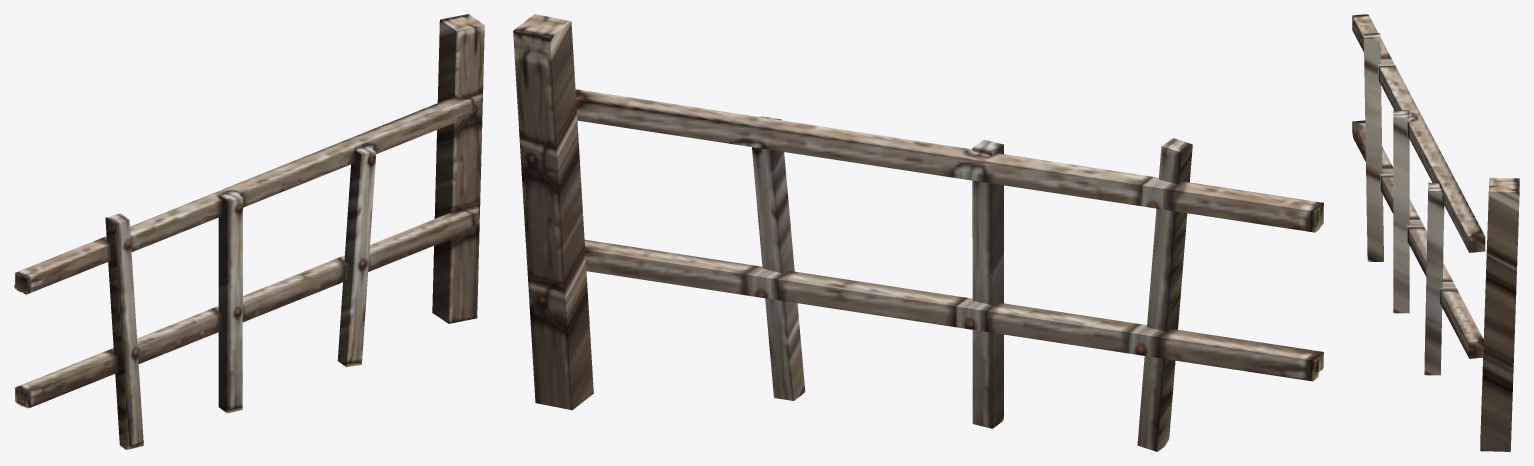
The model's file is fence_17.glb.
3 views of the same model, side by side, from view 1: azimuth 30°, elevation 25°; view 2: azimuth 150°, elevation 25°; view 3: azimuth 270°, elevation 25° (orthographic). The views are drawn at different scales.
Visible parts, largest first — view 1: fence_17_game; view 2: fence_17_game; view 3: fence_17_game.
Part boxes in pixels (x1,y1,x2,y2): fence_17_game: (14,14,484,449); fence_17_game: (513,14,1323,451); fence_17_game: (1352,14,1519,451).
Bounding box in the file's own units: 2.45 × 1.26 × 0.7157.
Materials: 1 (1 with a texture image).
